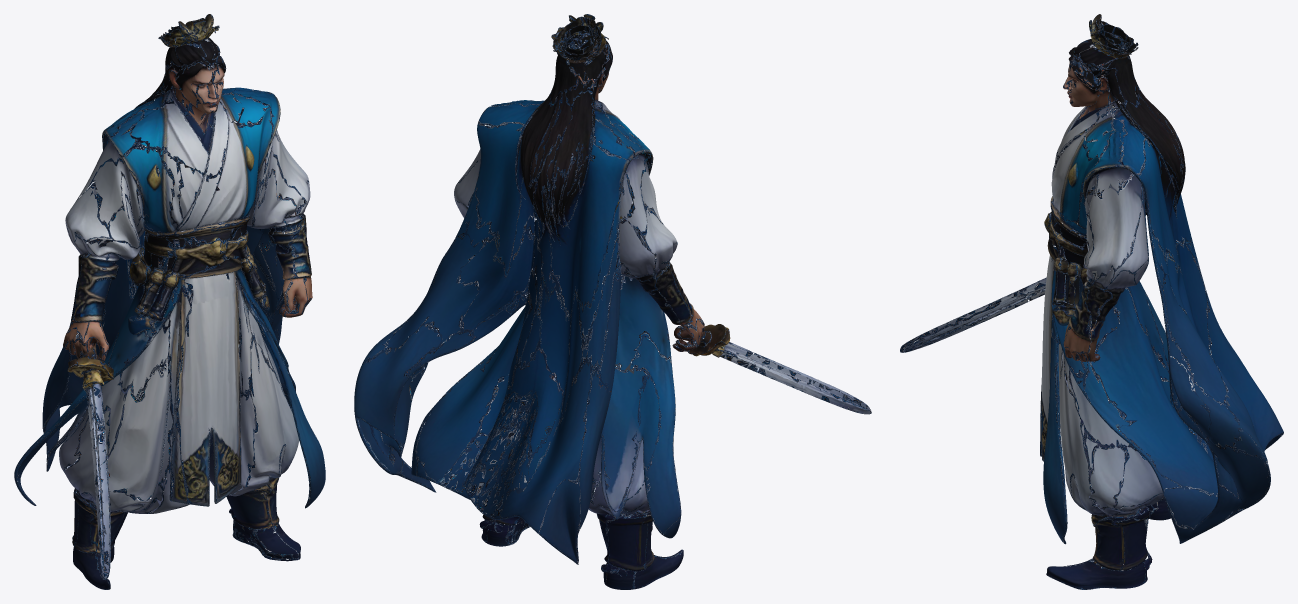
The model's file is wtj_new.glb.
3 views of the same model, side by side, from view 1: azimuth 30°, elevation 25°; view 2: azimuth 150°, elevation 25°; view 3: azimuth 270°, elevation 25° (orthographic). The views are drawn at different scales.
Visible parts, largest first — view 1: node_0; view 2: node_0; view 3: node_0.
Boxes of the visible parts, <box> form: node_0: <box>14,14,325,589</box>; node_0: <box>354,14,871,589</box>; node_0: <box>900,14,1283,589</box>.
Size of the model in its own units: 1.16 by 1.7 by 1.13.
Materials: 1 (1 with a texture image).
